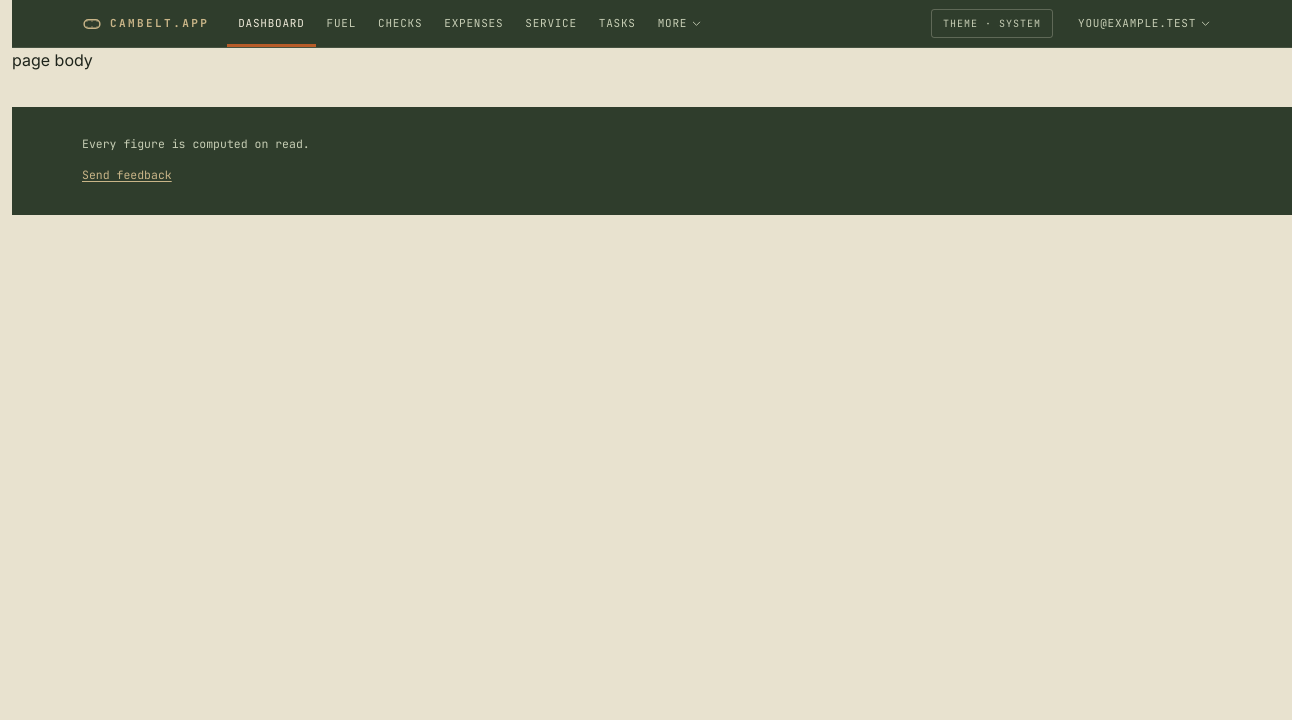
it: TopNav › groups the More panel and reaches Garage from it
The summary is "More ▾" — the caret is an aria-hidden SVG now, so the accessible name is just "More".
Step 1. Click the heading "More" → {"x": 680, "y": 23}, box [658,16,702,30]
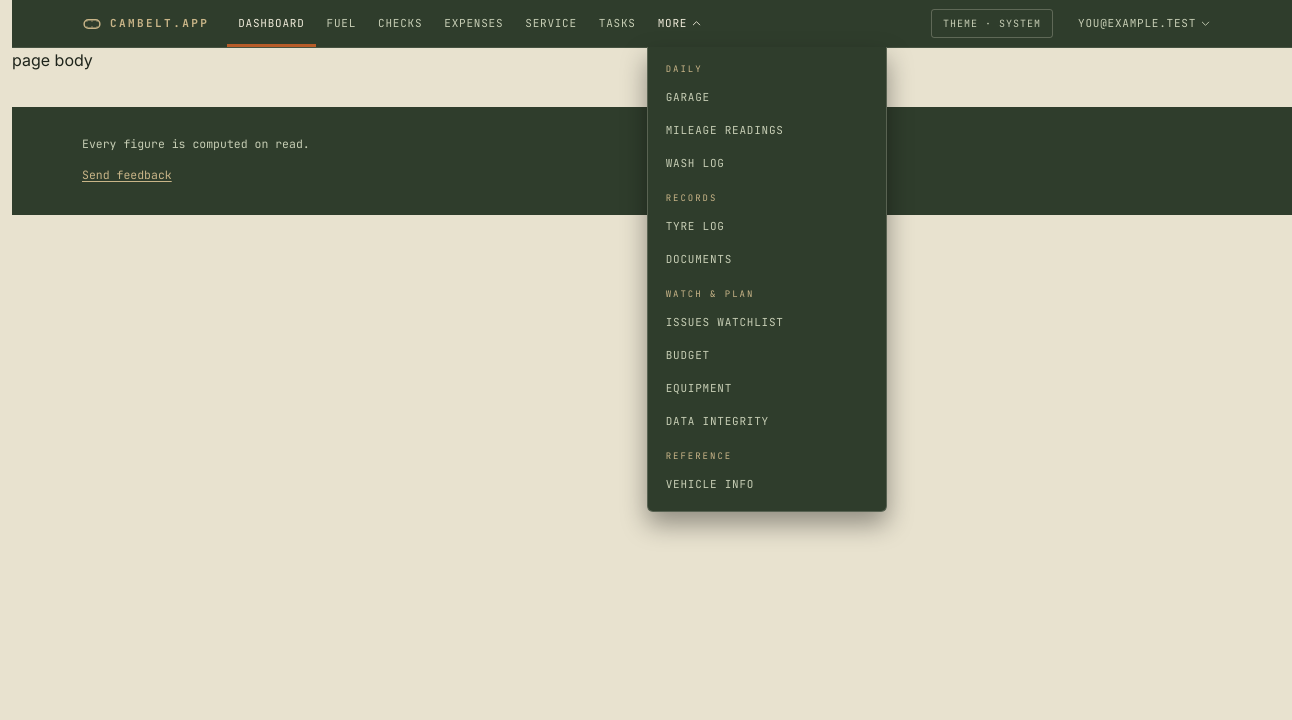
Check: the text "Daily" is shown, box [666,63,703,75]
Check: the text "Records" is shown, box [666,192,717,204]
Check: the text "Watch & plan" is shown, box [666,288,754,300]
